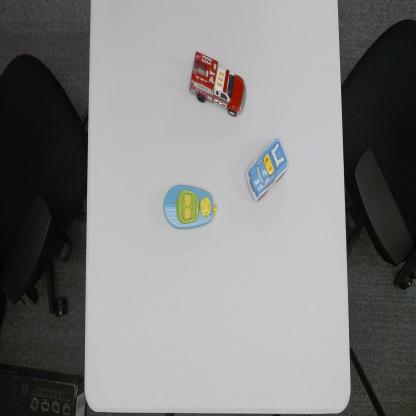Boat: (162, 182, 218, 230)
Car: (246, 136, 289, 202)
Firetruck: (187, 49, 247, 120)
